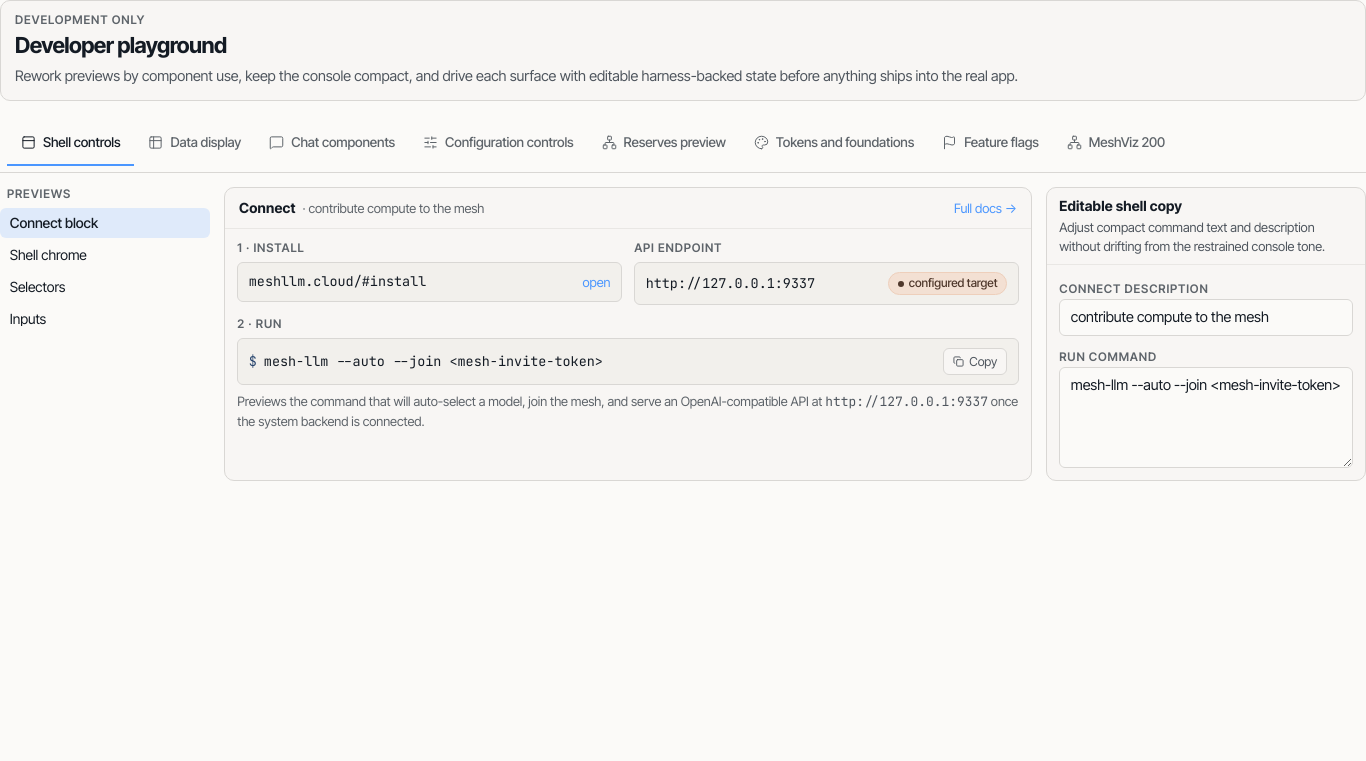
Test: DeveloperPlaygroundPage › shows every shared control style in the foundations area
The width and height of the screenshot is (1366, 761).
Click the tab "Tokens and foundations".
click(834, 144)  # box [740,122,928,166]
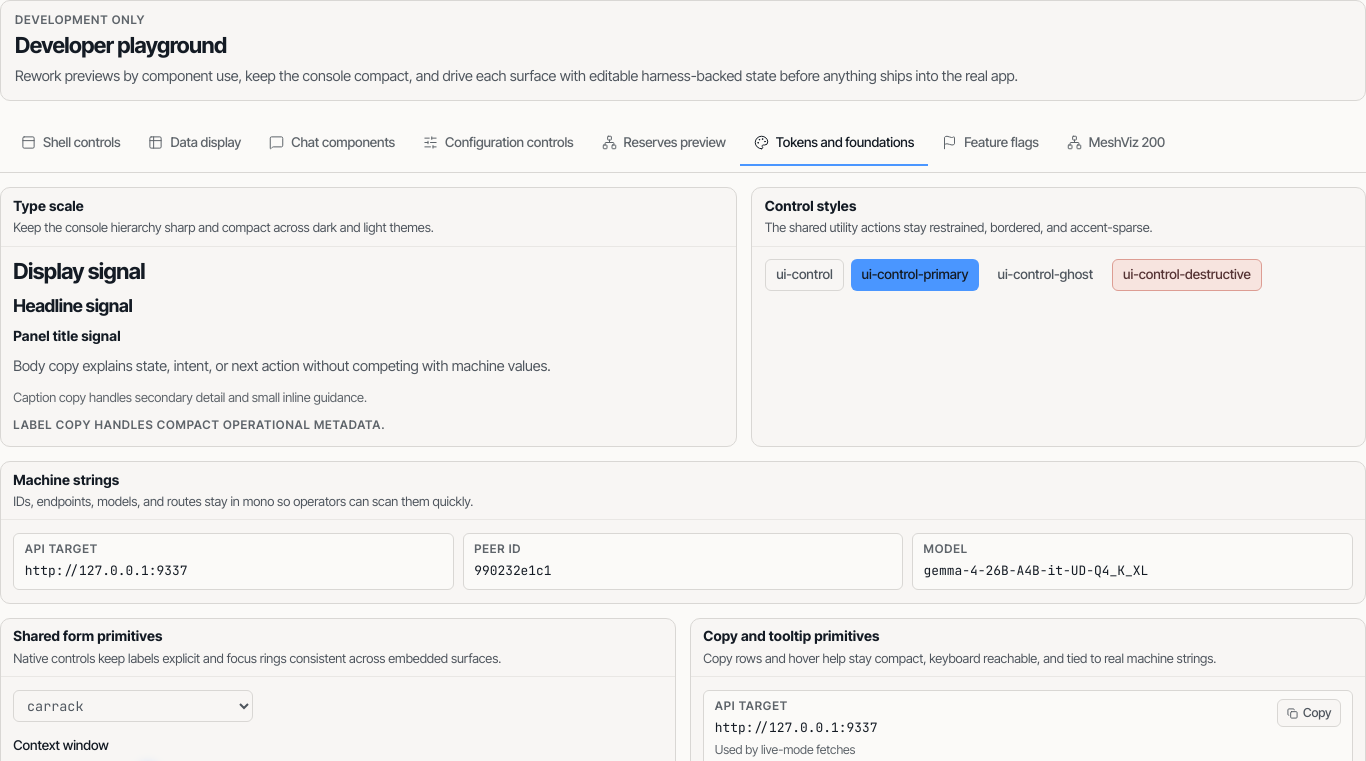
expect the button "ui-control" is shown: met, box [765,259,844,291]
expect the button "ui-control-primary" is shown: met, box [851,259,979,291]
expect the button "ui-control-ghost" is shown: met, box [986,259,1104,291]
